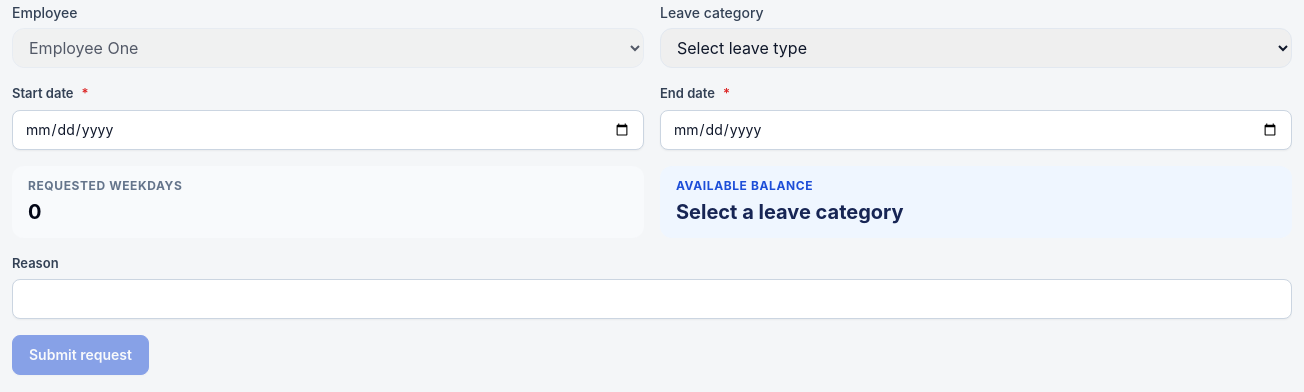
Test: event-based leave is shown as a per-event allowance
Select "Maternity leave" in the dropdown labelled "Leave category" at (976, 48), box [660,28,1292,68]
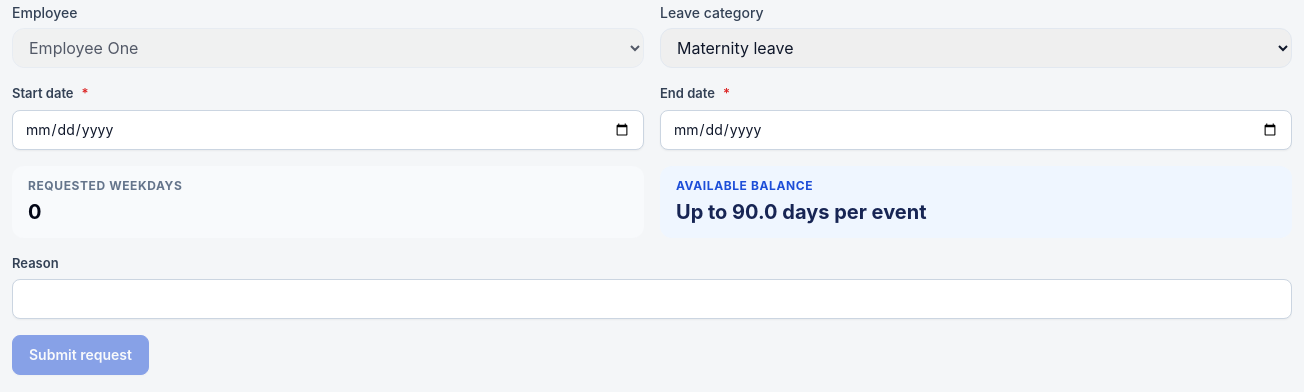
Check: the text "Up to 90.0 days per event" is shown, box [676,200,926,224]
